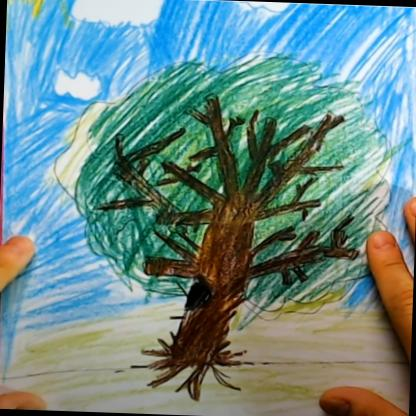branch_cut: (88, 97, 366, 288)
crown_cloud: (64, 48, 392, 305)
knot: (180, 277, 214, 309)
root_upside: (129, 332, 250, 406)
trunk_reflex: (168, 228, 256, 350)
